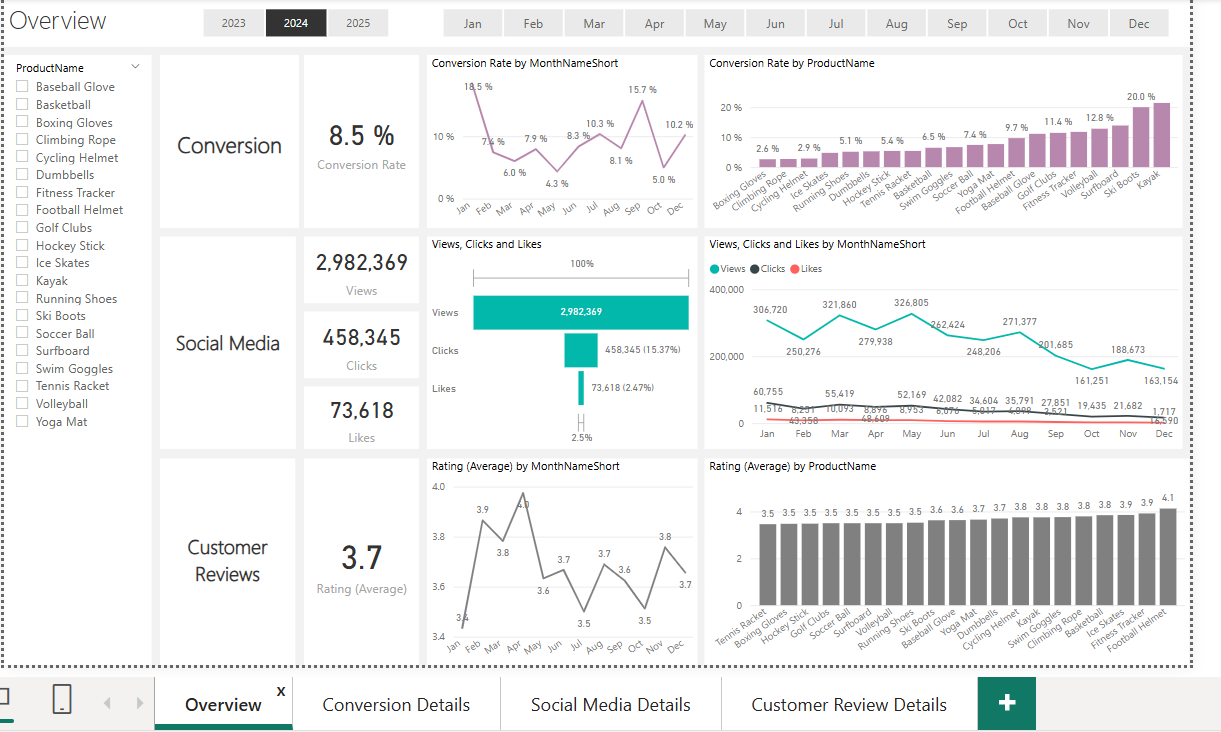

What the dashboard file says about the page in this screenshot:
{"tool":"powerbi","page":{"name":"Overview","canvas":[1280,720],"ordinal":0},"visuals":[{"type":"textbox","box":[0,0,1280,52.6],"z":0},{"type":"slicer","fields":{"Values":["dim_products.ProductName"]},"box":[0,61.6,159.5,658.5],"z":1000},{"type":"card","fields":{"Values":["_Calculations.Conversion Rate"]},"box":[324.1,61.9,123.9,186.8],"z":2000},{"type":"card","fields":{"Values":["_Calculations.Rating (Average)"]},"box":[324.1,496.5,123.9,224],"z":3000},{"type":"lineChart","fields":{"Y":["_Calculations.Conversion Rate"],"Category":["Calendar.MonthNameShort"]},"box":[457.1,61.9,292.3,186.7],"z":4000},{"type":"columnChart","fields":{"Category":["dim_products.ProductName"],"Y":["_Calculations.Conversion Rate"]},"box":[756.7,61.9,516.3,186.7],"z":5000},{"type":"slicer","fields":{"Values":["Calendar.Year"]},"box":[189.4,4.6,249.5,43.7],"z":6000},{"type":"slicer","fields":{"Values":["Calendar.MonthNameShort"]},"box":[448,4.6,832.3,43.7],"z":7000},{"type":"lineChart","fields":{"Y":["_Calculations.Views","_Calculations.Clicks","_Calculations.Likes"],"Category":["Calendar.MonthNameShort"]},"box":[756.6,258.1,516.1,229.2],"z":8000},{"type":"lineChart","fields":{"Category":["Calendar.MonthNameShort"],"Y":["_Calculations.Rating (Average)"]},"box":[457.1,496.3,292.3,224],"z":9000},{"type":"columnChart","fields":{"Category":["dim_products.ProductName"],"Y":["_Calculations.Rating (Average)"]},"box":[756.6,496.5,523.4,224],"z":10000},{"type":"funnel","fields":{"Y":["_Calculations.Views","_Calculations.Clicks","_Calculations.Likes"]},"box":[457.3,258.1,292.1,229.2],"z":11000},{"type":"card","fields":{"Values":["_Calculations.Views"]},"box":[324.2,257.7,123.8,71.9],"z":12000},{"type":"textbox","box":[168.5,61.9,150.3,186.7],"z":13000},{"type":"textbox","box":[168.5,257.7,146.6,229.5],"z":14000},{"type":"textbox","box":[168.5,496.3,145.7,224],"z":15000},{"type":"card","fields":{"Values":["_Calculations.Clicks"]},"box":[324.2,338.8,123.8,71.9],"z":16000},{"type":"card","fields":{"Values":["_Calculations.Likes"]},"box":[324.2,419.8,123.8,67.4],"z":17000}]}

Visuals, with their boxes on the page's 1280x720 design canvas (x1, y1, x2, y2). These are canvas units, not pixel positions in the 1221x732 screenshot, which may show the page scaled, cropped or inside an application window:
textbox: left=0, top=0, right=1280, bottom=53
slicer - dim_products.ProductName: left=0, top=62, right=160, bottom=720
card - _Calculations.Conversion Rate: left=324, top=62, right=448, bottom=249
card - _Calculations.Rating (Average): left=324, top=496, right=448, bottom=720
lineChart - _Calculations.Conversion Rate x Calendar.MonthNameShort: left=457, top=62, right=749, bottom=249
columnChart - dim_products.ProductName x _Calculations.Conversion Rate: left=757, top=62, right=1273, bottom=249
slicer - Calendar.Year: left=189, top=5, right=439, bottom=48
slicer - Calendar.MonthNameShort: left=448, top=5, right=1280, bottom=48
lineChart - _Calculations.Views x _Calculations.Clicks: left=757, top=258, right=1273, bottom=487
lineChart - Calendar.MonthNameShort x _Calculations.Rating (Average): left=457, top=496, right=749, bottom=720
columnChart - dim_products.ProductName x _Calculations.Rating (Average): left=757, top=496, right=1280, bottom=720
funnel - _Calculations.Views x _Calculations.Clicks: left=457, top=258, right=749, bottom=487
card - _Calculations.Views: left=324, top=258, right=448, bottom=330
textbox: left=168, top=62, right=319, bottom=249
textbox: left=168, top=258, right=315, bottom=487
textbox: left=168, top=496, right=314, bottom=720
card - _Calculations.Clicks: left=324, top=339, right=448, bottom=411
card - _Calculations.Likes: left=324, top=420, right=448, bottom=487
